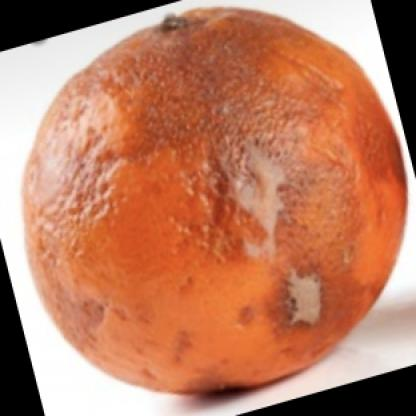rotten_orange: (17, 4, 409, 404)
